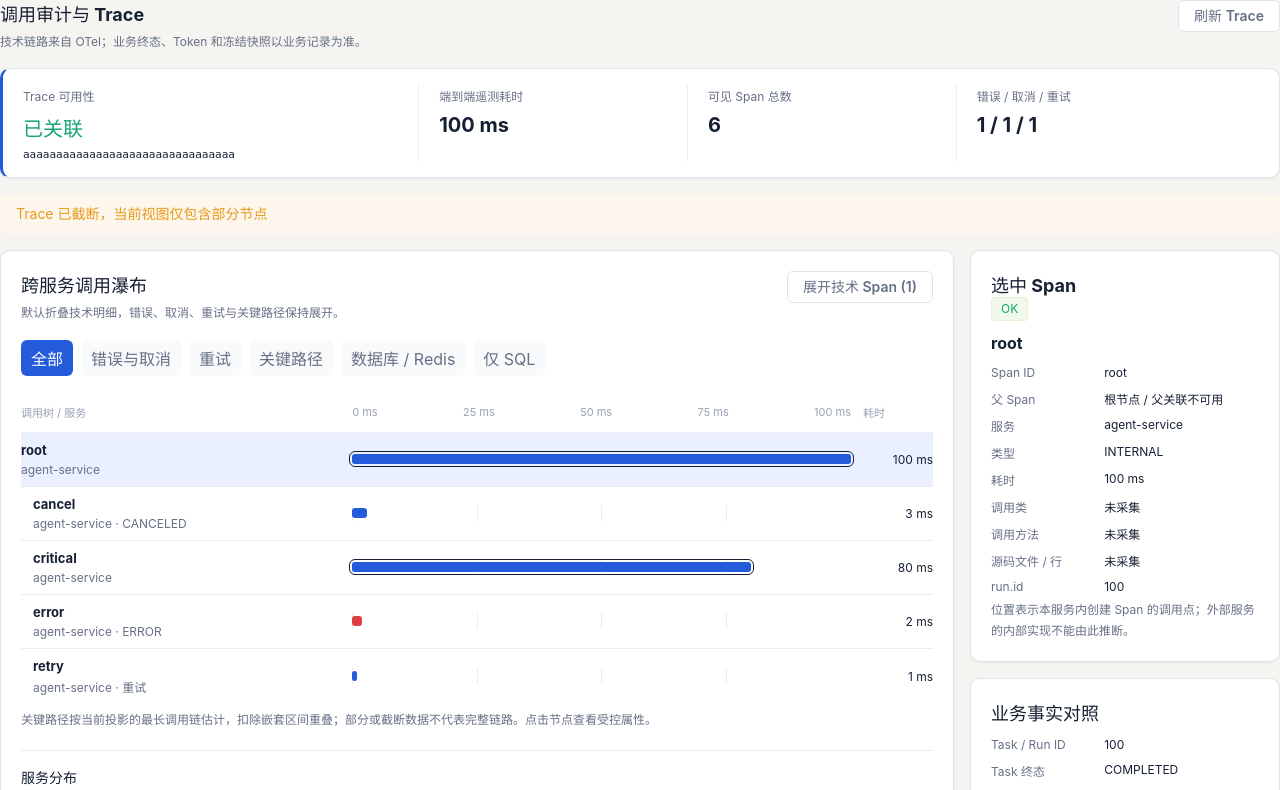
Test: technical Trace and authoritative facts › renders microsecond bars and keeps error/cancel/retry and critical nodes visible while folding other technical spans
The width and height of the screenshot is (1280, 790).
Click the button "错误与取消". click: point(131, 358)
box: left=81, top=340, right=181, bottom=376
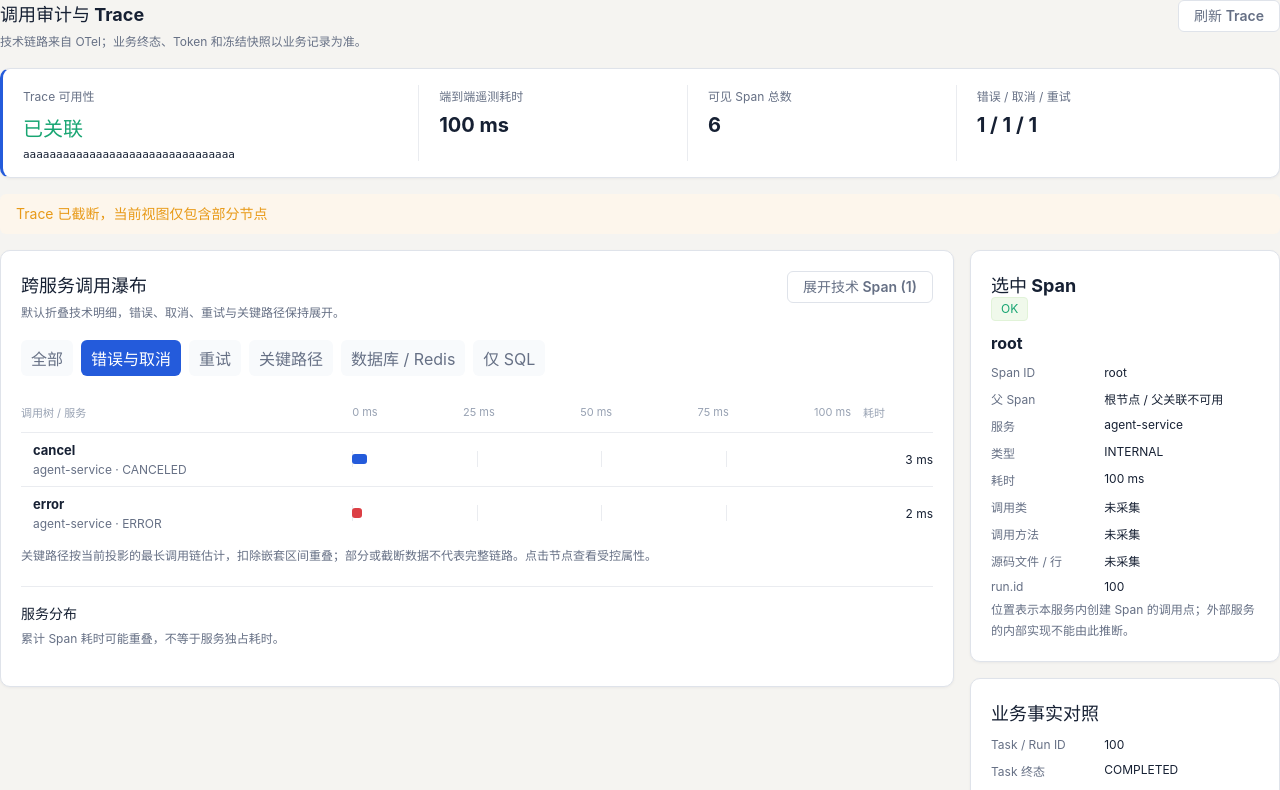
Expected: the number of buttons with class "span-row" is 2, left=21, top=432, right=933, bottom=486; left=21, top=486, right=933, bottom=540
